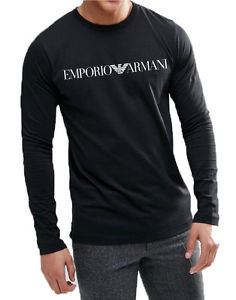T-Shirt: (19, 5, 222, 235)
